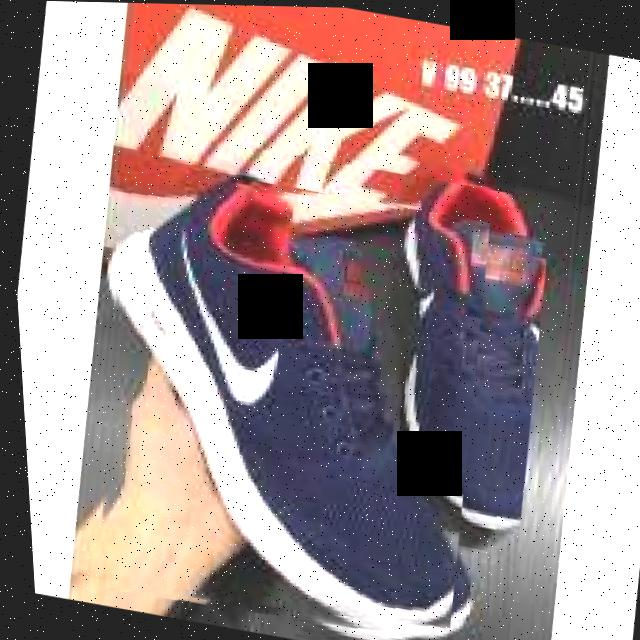shoe: (50, 122, 571, 640), (54, 156, 508, 640)
